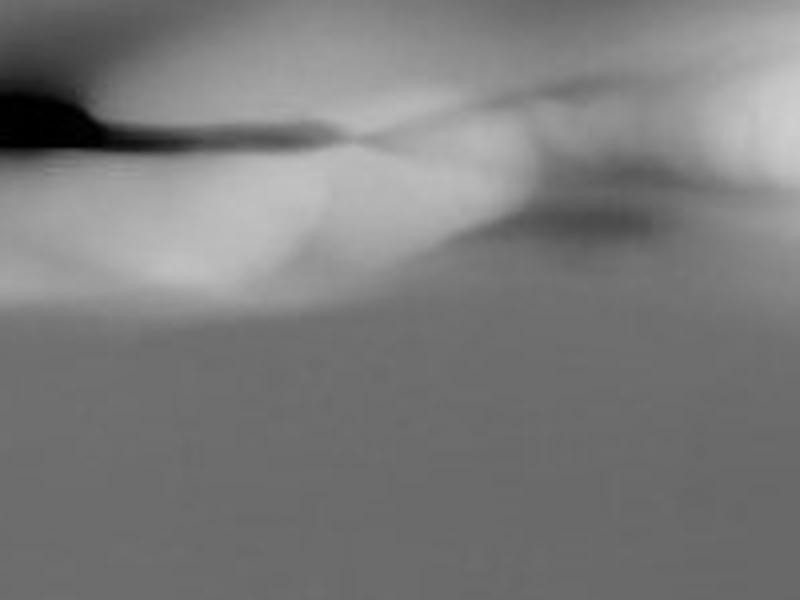defect: (4, 93, 95, 155)
